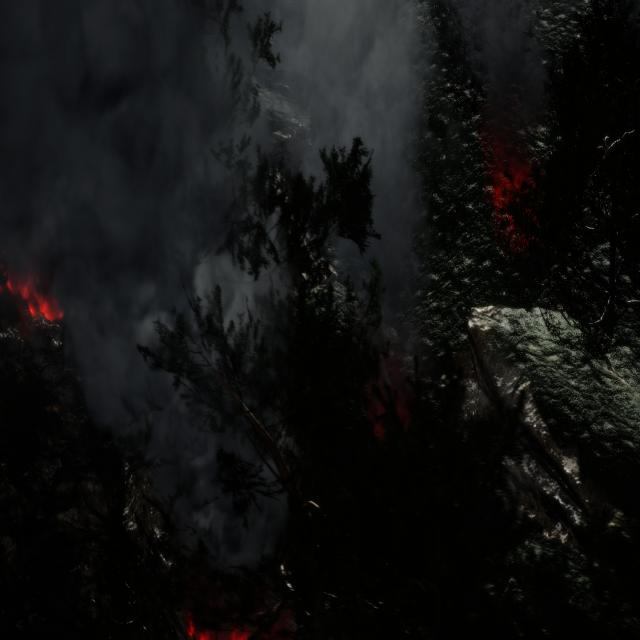Human: (355, 291, 422, 412)
